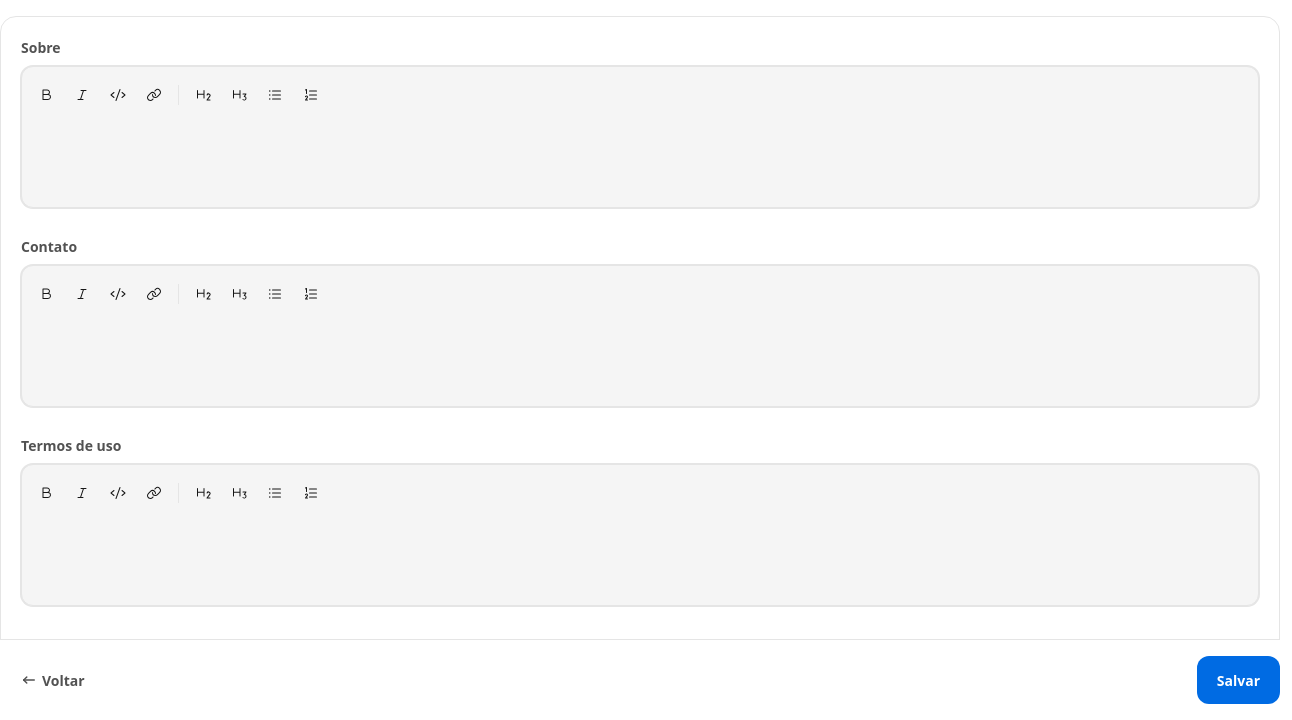
formulários de entidades › textos institucionais: a confirmação aparece no toast
Click the button "Salvar".
click(1238, 680)  # box left=1197, top=656, right=1280, bottom=704
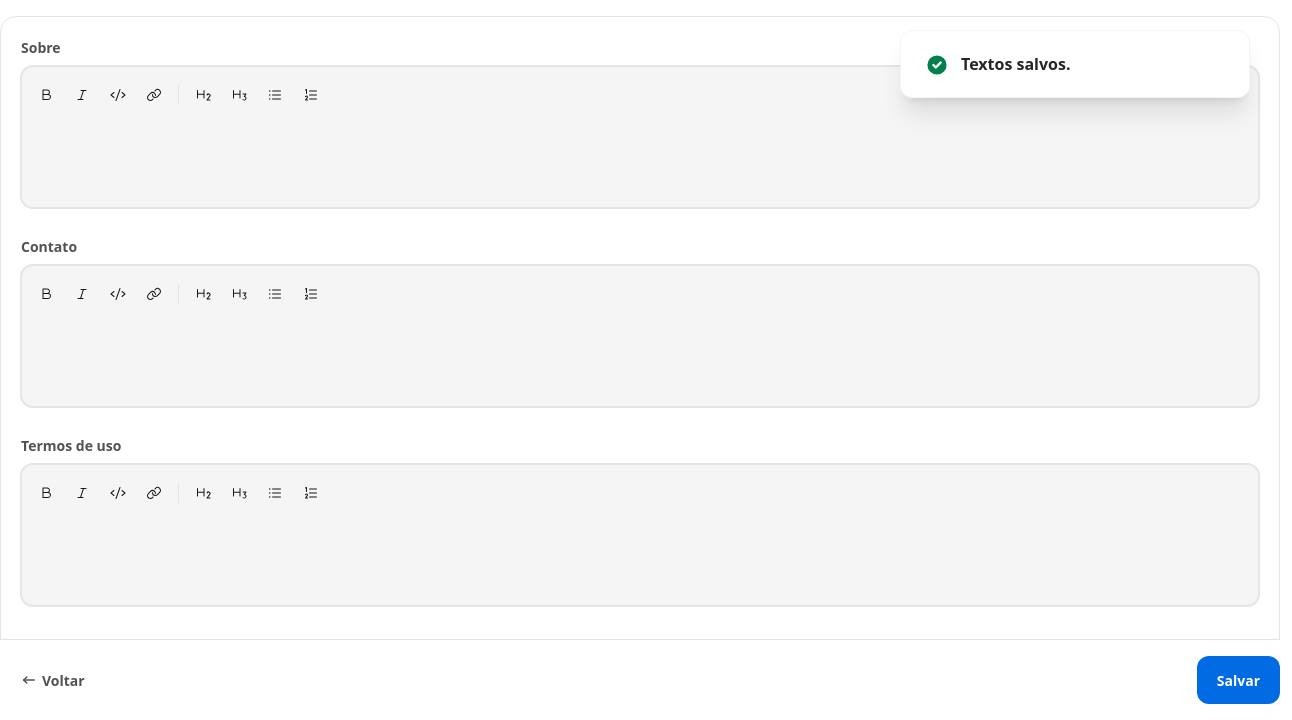
Check: the message reads "Textos salvos.", box left=961, top=53, right=1070, bottom=75
Check: the element with class "notification" is shown, box left=900, top=30, right=1250, bottom=98
